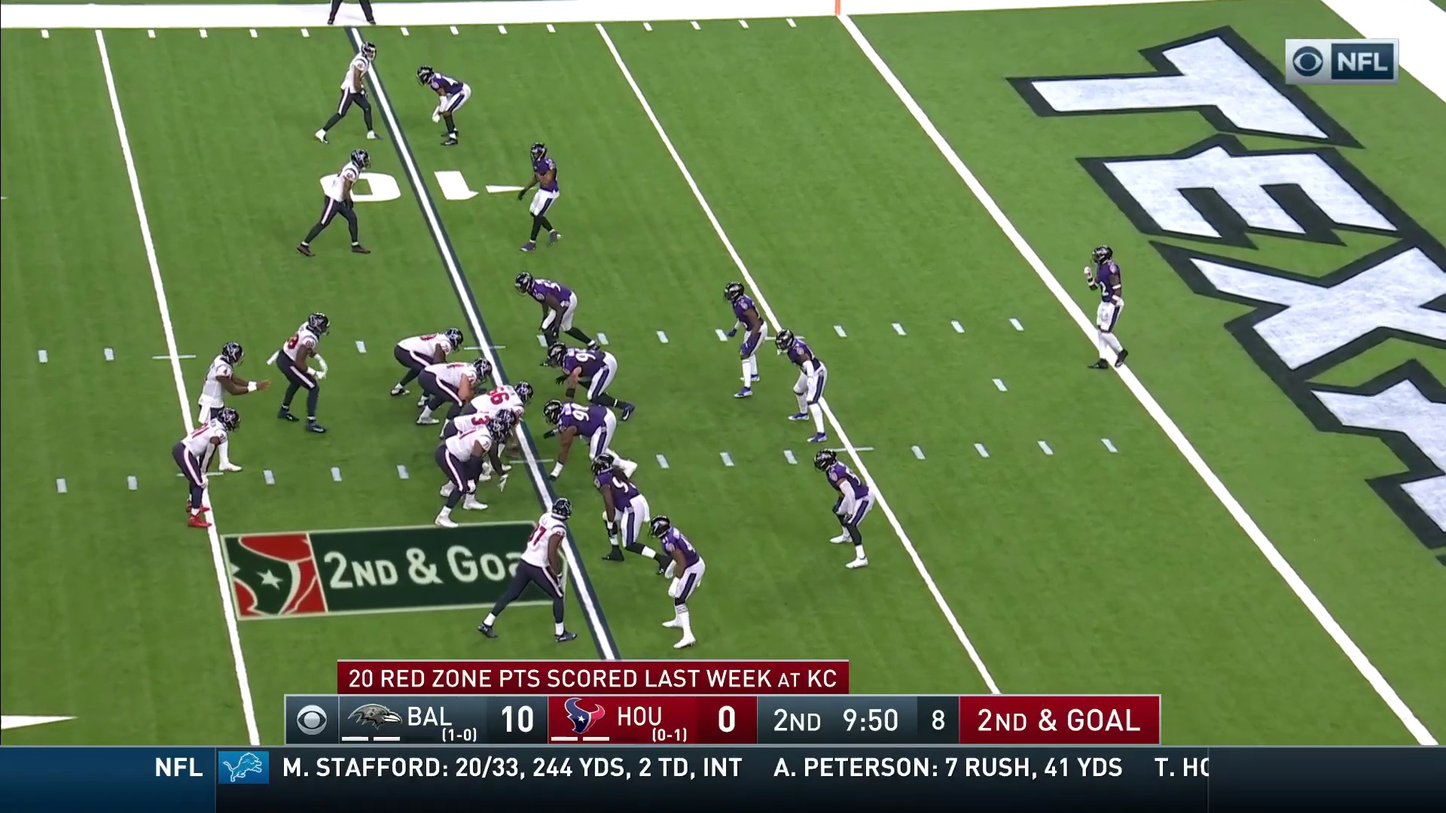Player: (173, 405, 237, 527), (194, 342, 253, 470), (436, 409, 501, 524), (443, 392, 519, 487), (273, 313, 328, 431), (594, 452, 649, 553), (544, 400, 616, 470), (1087, 245, 1125, 367), (517, 272, 576, 347), (549, 341, 616, 398), (418, 362, 484, 415)
